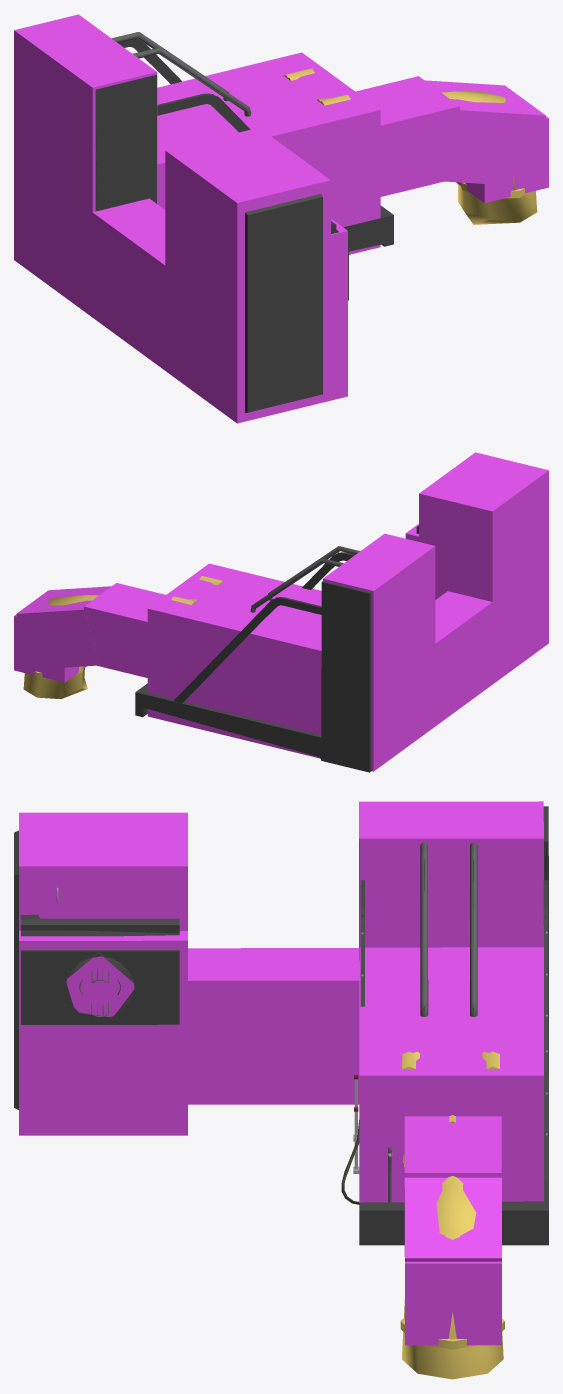
The model's file is LungDockingStation2.fbx.
3 renders of one model, top to bottom at view 1: azimuth 30°, elevation 25°; view 2: azimuth 150°, elevation 25°; view 3: azimuth 270°, elevation 25°, orthographic. The views are drawn at different scales.
Parts seen in each view (by area): view 1: BigSocket, Cube__5_, Cube__2_, Cube__1_, Cube__3_, BigSocketLowDetail, Cube, Cube__6_, Cube__4_, Cube__7_; view 2: Cube__1_, Cube__5_, BigSocket, Cube__2_, BigSocketLowDetail, Cube__3_, Cube, Cube__6_, Cube__7_; view 3: Cube__1_, Cube__3_, Cube__2_, Cube__4_, BigSocket, Cube__5_, Cube__7_, BigSocketLowDetail, Cube__6_, Cube.
Part boxes in pixels (bbox=[...]): BigSocket: bbox=[95, 32, 528, 412]; Cube__5_: bbox=[165, 127, 330, 423]; Cube__2_: bbox=[14, 14, 157, 310]; Cube__1_: bbox=[92, 52, 380, 254]; Cube__3_: bbox=[84, 198, 165, 370]; BigSocketLowDetail: bbox=[95, 32, 537, 251]; Cube: bbox=[355, 76, 459, 196]; Cube__6_: bbox=[425, 80, 545, 186]; Cube__4_: bbox=[237, 218, 347, 423]; Cube__7_: bbox=[456, 116, 548, 203]; Cube__1_: bbox=[147, 563, 321, 758]; Cube__5_: bbox=[419, 452, 548, 684]; BigSocket: bbox=[32, 525, 418, 772]; Cube__2_: bbox=[323, 533, 435, 771]; BigSocketLowDetail: bbox=[23, 533, 416, 771]; Cube__3_: bbox=[429, 591, 492, 730]; Cube: bbox=[84, 583, 165, 677]; Cube__6_: bbox=[16, 586, 110, 669]; Cube__7_: bbox=[14, 614, 86, 682]; Cube__1_: bbox=[359, 947, 543, 1202]; Cube__3_: bbox=[188, 948, 359, 1104]; Cube__2_: bbox=[359, 801, 543, 947]; Cube__4_: bbox=[19, 931, 187, 1135]; BigSocket: bbox=[14, 806, 548, 1349]; Cube__5_: bbox=[19, 812, 187, 930]; Cube__7_: bbox=[405, 1261, 501, 1345]; BigSocketLowDetail: bbox=[21, 806, 548, 1379]; Cube__6_: bbox=[404, 1176, 501, 1261]; Cube: bbox=[404, 1116, 501, 1256].
Size of the model in its own units: 959 by 497 by 788.
